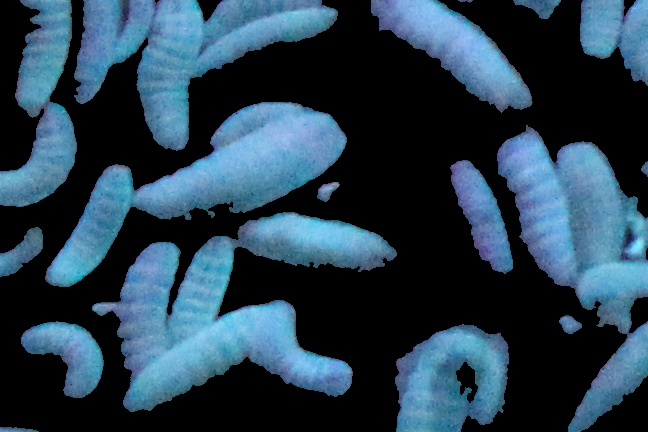larvae: (130, 101, 350, 224), (122, 294, 271, 430), (490, 127, 583, 313), (363, 1, 524, 107), (552, 133, 633, 300), (192, 1, 349, 84), (42, 159, 136, 293), (224, 210, 400, 278), (136, 1, 211, 157), (438, 149, 517, 292), (249, 299, 354, 405), (117, 238, 181, 396), (173, 226, 237, 375), (11, 316, 107, 407), (390, 326, 472, 432), (1, 110, 79, 206), (15, 1, 72, 132), (192, 1, 338, 52), (74, 1, 128, 113), (469, 329, 523, 432), (570, 1, 628, 63), (115, 1, 157, 86), (328, 1, 501, 4)
